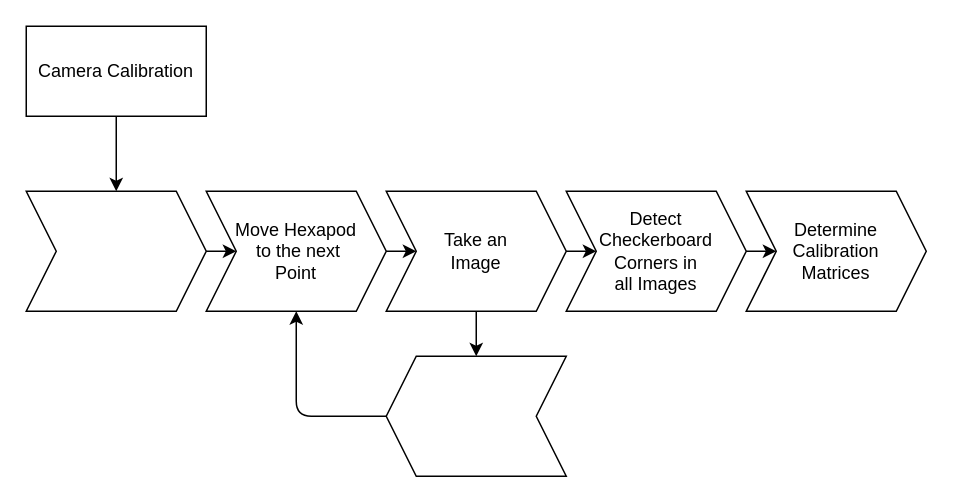
Some shapes in this 953 by 503 pixel diagram are drawn without their labels. Each missing label, with the centre of its shape:
"Creation of Calibration Points in Space" belongs at (115,250).
"Repeat" belongs at (475,415).
